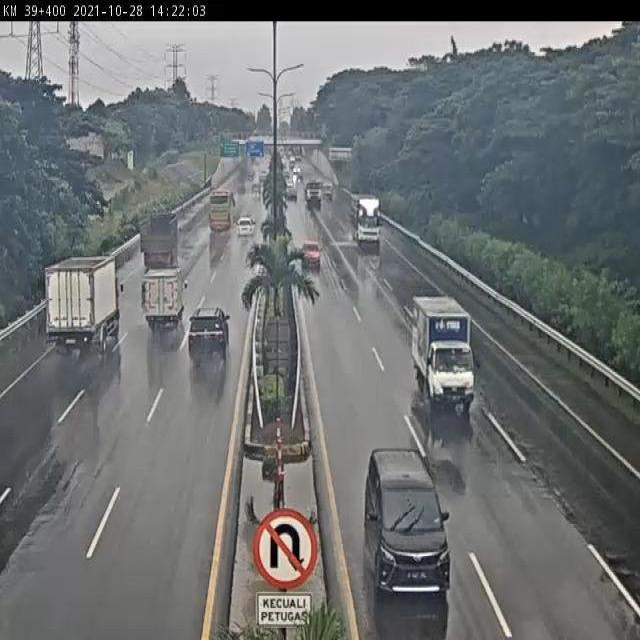big bus: (205, 187, 235, 236)
car: (361, 443, 452, 596), (185, 305, 235, 363), (298, 239, 324, 269), (233, 216, 256, 241)
truck-l-: (43, 252, 122, 356), (135, 210, 183, 270), (346, 191, 384, 249)
truck-s-: (409, 291, 481, 412), (139, 263, 188, 336)
